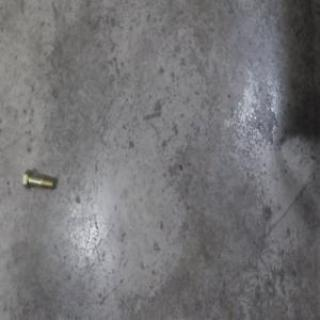Bolttrack_idkeyframe: (24, 176, 56, 202)
